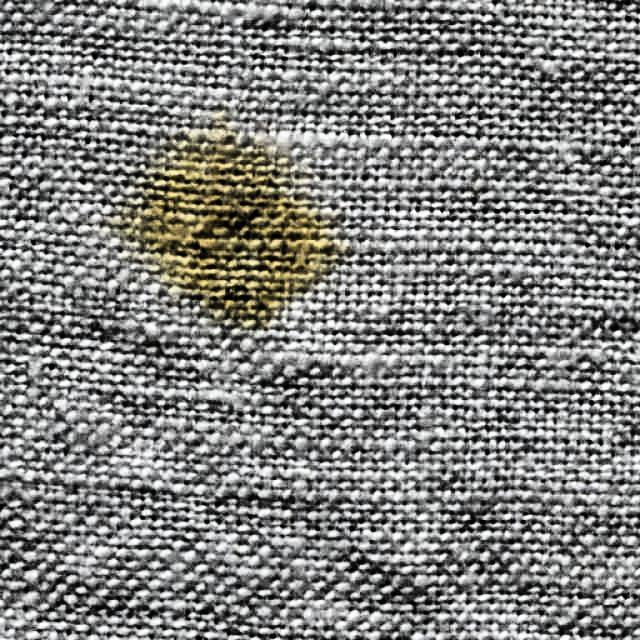Thread_other: (92, 90, 368, 348)
